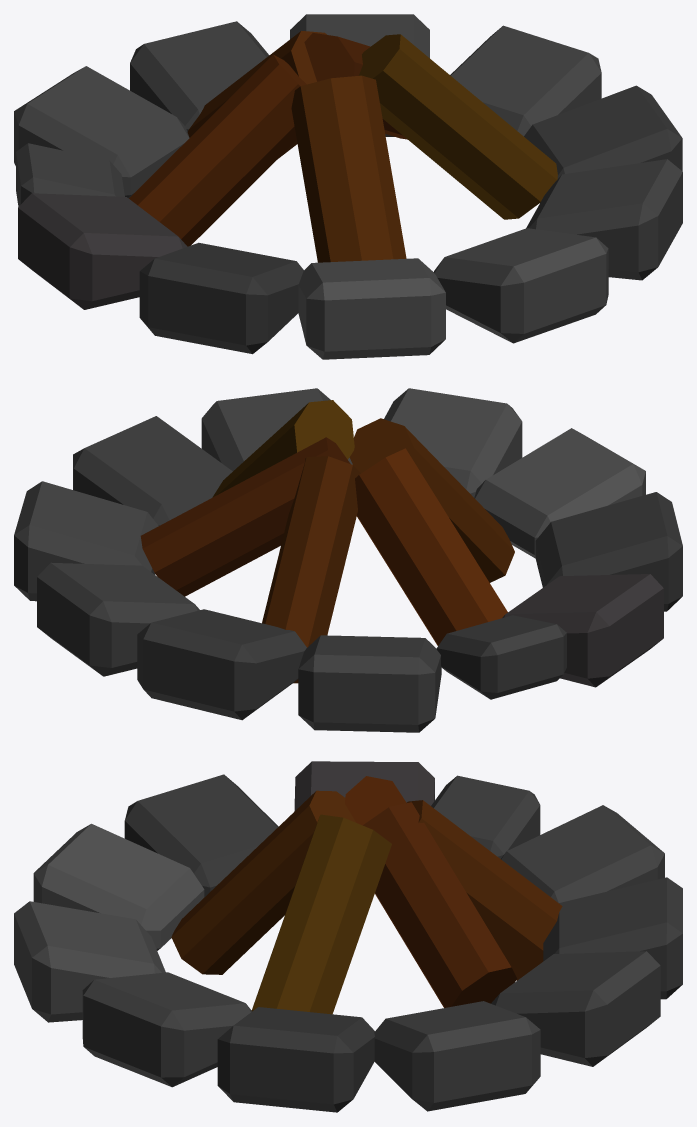
File: modeladoFire.fbx
The picture shows the model from 3 angles, top to bottom: view 1: azimuth 30°, elevation 25°; view 2: azimuth 150°, elevation 25°; view 3: azimuth 270°, elevation 25°; orthographic projection. The views are drawn at different scales.
Parts seen in each view (by area): view 1: Cylinder.002, Cylinder.003, Cube.005, Cylinder, Cube.007, Cube.006, Cube.008, Cube.004, Cube.010, Cube.002, Cube.003, Cube (+4 smaller); view 2: Cylinder, Cube, Cube.010, Cylinder.001, Cube.001, Cylinder.004, Cube.006, Cube.008, Cube.007, Cube.003, Cube.002, Cube.005 (+4 smaller); view 3: Cylinder.002, Cylinder.001, Cube.002, Cube.003, Cube.004, Cube.001, Cylinder.003, Cube.006, Cube.005, Cube.007, Cube.010, Cube (+4 smaller).
Boxes of the visible parts, x1=… form: Cylinder.002: x1=359, y1=34, x2=557, y2=219; Cylinder.003: x1=291, y1=75, x2=406, y2=262; Cube.005: x1=434, y1=228, x2=608, y2=343; Cylinder: x1=129, y1=54, x2=306, y2=246; Cube.007: x1=139, y1=242, x2=303, y2=354; Cube.006: x1=298, y1=258, x2=445, y2=359; Cube.008: x1=18, y1=193, x2=187, y2=309; Cube.004: x1=526, y1=159, x2=682, y2=280; Cube.010: x1=14, y1=66, x2=189, y2=198; Cube.002: x1=450, y1=25, x2=601, y2=136; Cube.003: x1=524, y1=85, x2=682, y2=178; Cube: x1=130, y1=21, x2=269, y2=131; Cylinder: x1=355, y1=448, x2=507, y2=645; Cube: x1=137, y1=609, x2=306, y2=720; Cube.010: x1=298, y1=635, x2=441, y2=732; Cylinder.001: x1=140, y1=437, x2=350, y2=596; Cube.001: x1=37, y1=562, x2=199, y2=676; Cylinder.004: x1=262, y1=456, x2=360, y2=683; Cube.006: x1=474, y1=428, x2=645, y2=558; Cube.008: x1=502, y1=574, x2=663, y2=687; Cube.007: x1=535, y1=492, x2=682, y2=611; Cube.003: x1=73, y1=416, x2=232, y2=525; Cube.002: x1=14, y1=481, x2=158, y2=601; Cube.005: x1=384, y1=388, x2=522, y2=497; Cylinder.002: x1=251, y1=814, x2=391, y2=1014; Cylinder.001: x1=363, y1=802, x2=517, y2=1007; Cube.002: x1=374, y1=1001, x2=540, y2=1111; Cube.003: x1=217, y1=1007, x2=374, y2=1112; Cube.004: x1=82, y1=972, x2=251, y2=1087; Cube.001: x1=491, y1=951, x2=660, y2=1066; Cylinder.003: x1=171, y1=790, x2=355, y2=974; Cube.006: x1=33, y1=823, x2=204, y2=950; Cube.005: x1=14, y1=901, x2=165, y2=1022; Cube.007: x1=124, y1=774, x2=278, y2=897; Cube.010: x1=501, y1=805, x2=664, y2=902; Cube: x1=543, y1=877, x2=682, y2=999.
Bounding box in the file's own units: 189 × 62.07 × 186.
